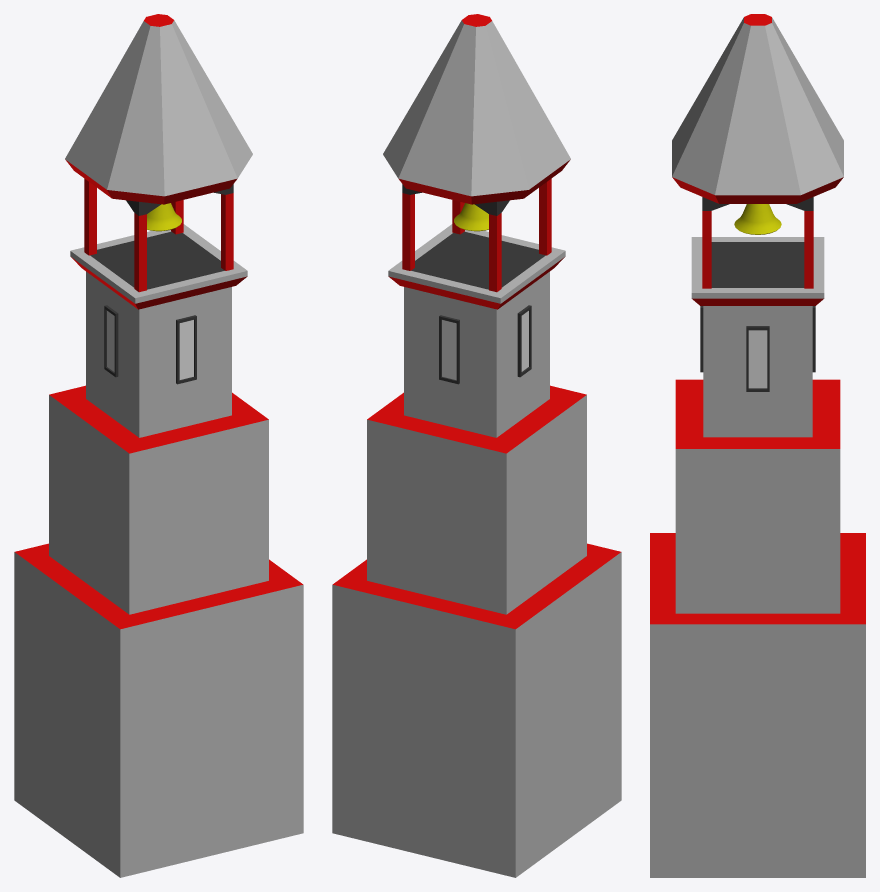
File: bellTower.fbx
3 renders of one model, left to right at view 1: azimuth 30°, elevation 25°; view 2: azimuth 150°, elevation 25°; view 3: azimuth 270°, elevation 25°, orthographic. The views are drawn at different scales.
Parts seen in each view (by area): view 1: bellTower; view 2: bellTower; view 3: bellTower.
Part boxes in pixels (left/top/right/bottom): bellTower: left=14, top=14, right=303, bottom=877; bellTower: left=332, top=14, right=621, bottom=877; bellTower: left=650, top=14, right=865, bottom=877.
Bounding box in the file's own units: 38.06 × 158 × 38.06.
